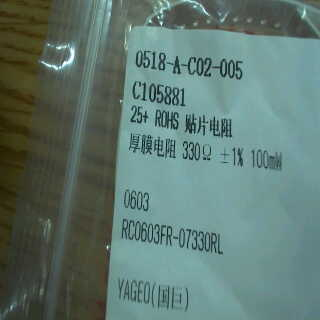330R: (179, 140, 215, 163)
